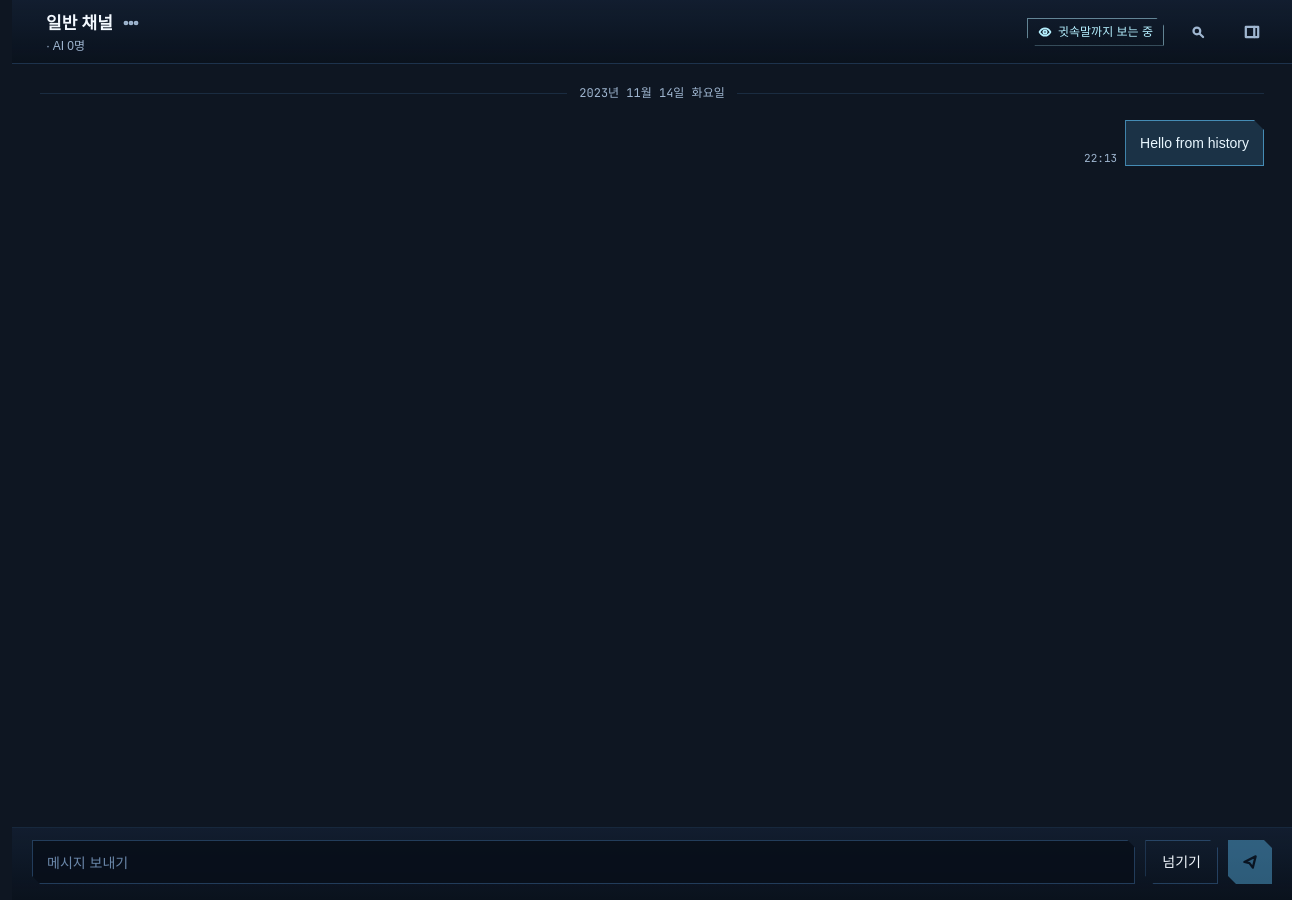
Test case: chat thread › renders general history and composer without work IPC
Check: the text "Hello from history" is shown, box [1140, 135, 1249, 151]
Check: the element with test id "thread-whisper-observer-notice" is shown, box [1027, 18, 1164, 46]
Click the button with test id "room-menu-open" at (131, 22), box [117, 8, 145, 36]
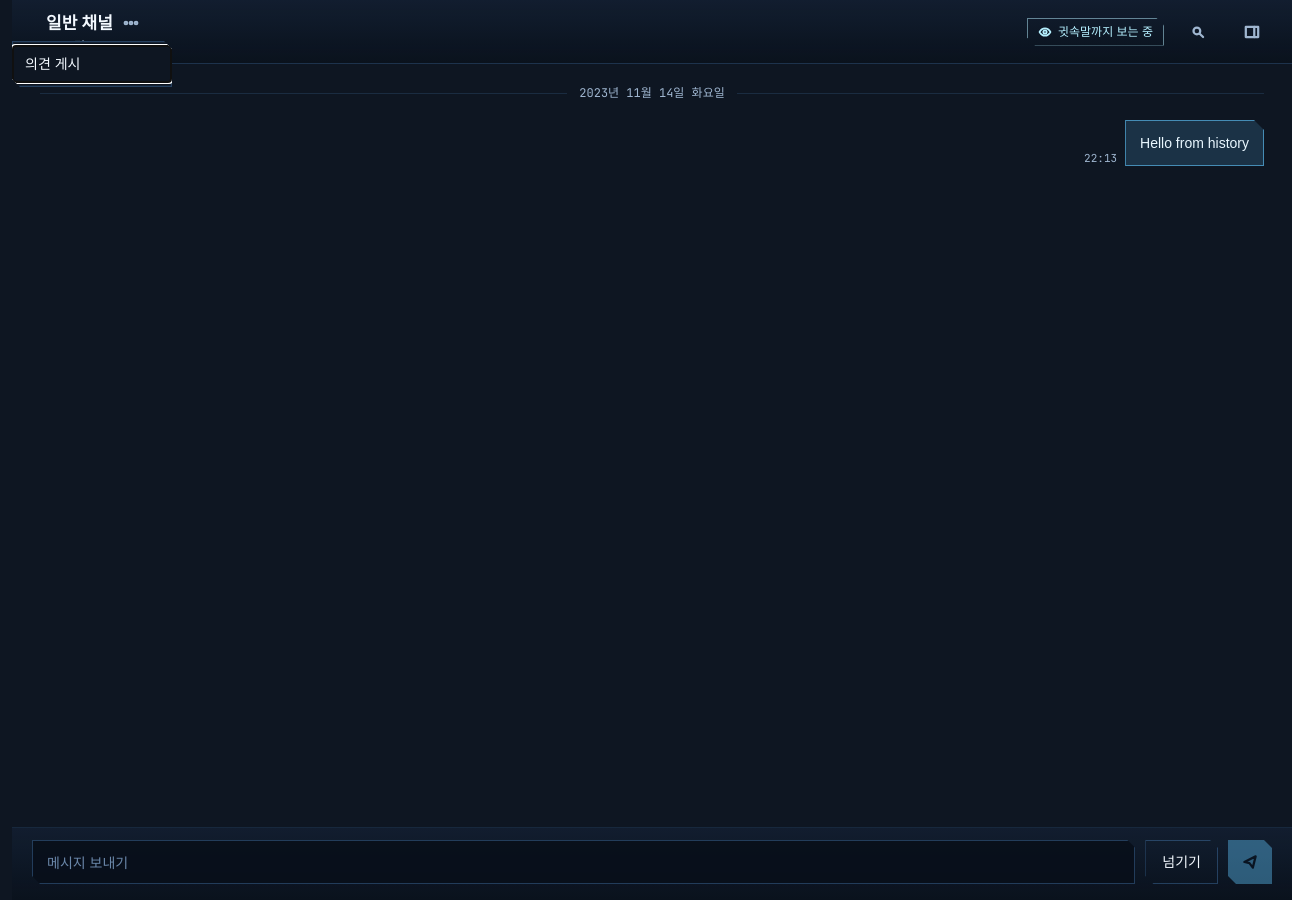
Check: the menu with test id "room-menu" is shown, box [12, 41, 172, 87]
Check: the menu item with test id "chat-post-opinion" is shown, box [13, 46, 171, 82]
